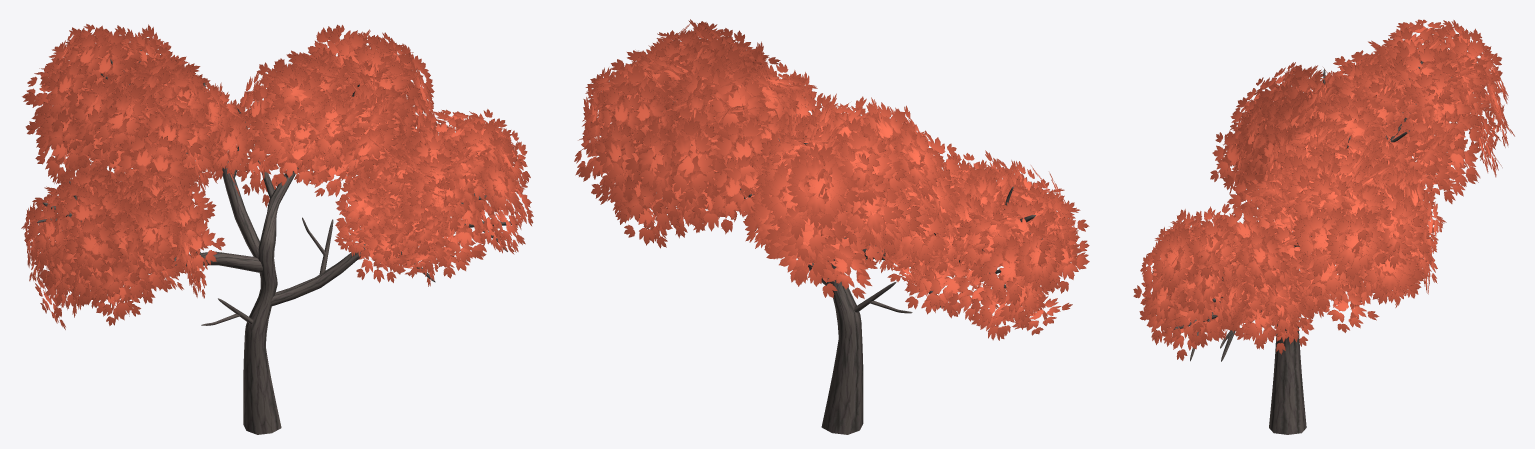
File: MapleTree_3.glb
3 views of the same model, side by side, from view 1: azimuth 30°, elevation 25°; view 2: azimuth 150°, elevation 25°; view 3: azimuth 270°, elevation 25° (orthographic). The views are drawn at different scales.
Visible parts, largest first — view 1: MapleTree_3; view 2: MapleTree_3; view 3: MapleTree_3.
Boxes of the visible parts, x1,y1,x2,y2 form: MapleTree_3: (21, 24, 533, 434); MapleTree_3: (574, 19, 1089, 434); MapleTree_3: (1133, 19, 1514, 434).
Size of the model in its own units: 8.98 by 6.99 by 6.61.
Materials: 2 (2 with a texture image).
